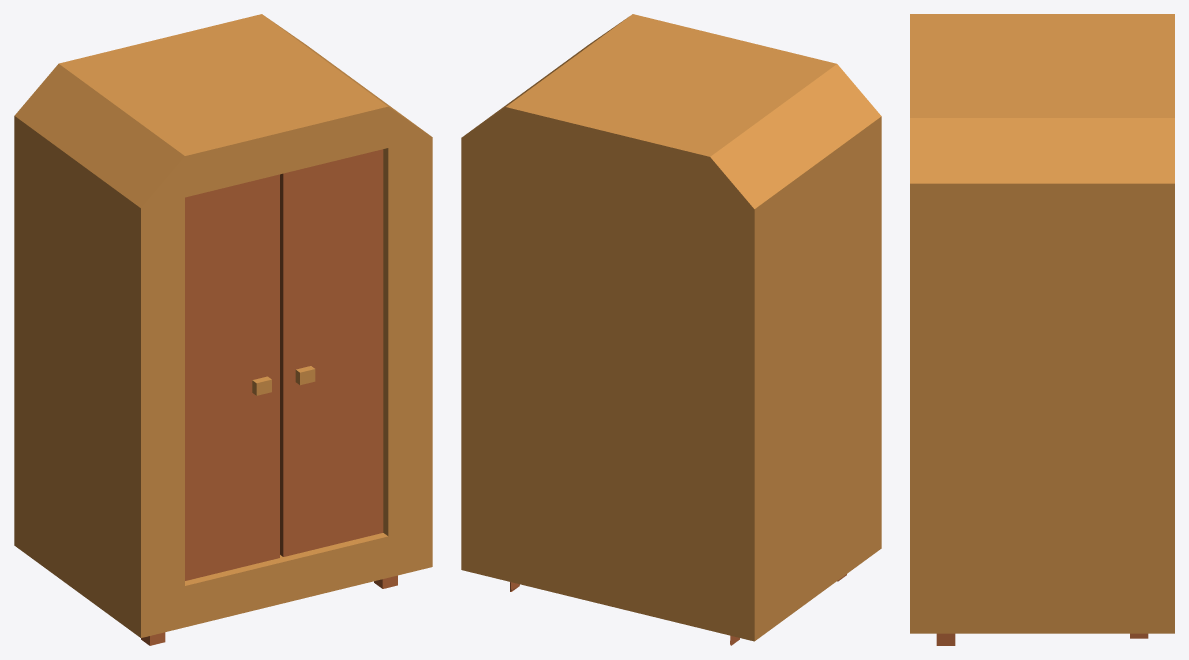
Rendered from closet.glb.
3 renders of one model, left to right at view 1: azimuth 30°, elevation 25°; view 2: azimuth 150°, elevation 25°; view 3: azimuth 270°, elevation 25°, orthographic. The views are drawn at different scales.
Visible parts, largest first — view 1: Cube; view 2: Cube; view 3: Cube.
Part boxes in pixels (left/top/right/bottom): Cube: left=14, top=14, right=432, bottom=645; Cube: left=461, top=14, right=881, bottom=645; Cube: left=910, top=14, right=1174, bottom=645.
Bounding box in the file's own units: 2 × 3.24 × 1.5.
